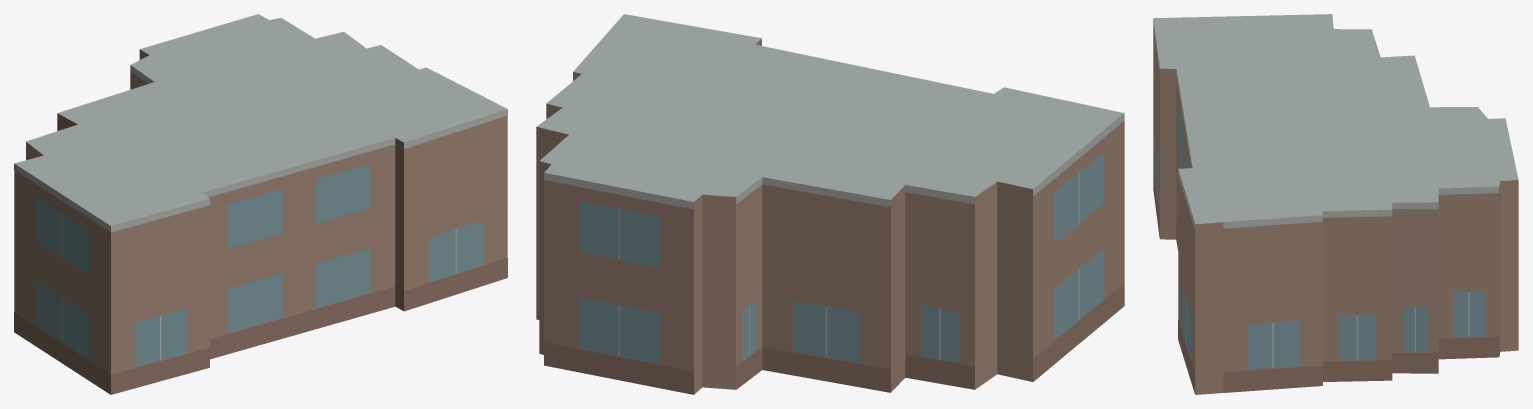
The model's file is survey-upis-32898949.glb.
3 views of the same model, side by side, from view 1: azimuth 30°, elevation 25°; view 2: azimuth 150°, elevation 25°; view 3: azimuth 270°, elevation 25° (orthographic). The views are drawn at different scales.
Parts seen in each view (by area): view 1: survey-upis-32898949.tmp; view 2: survey-upis-32898949.tmp; view 3: survey-upis-32898949.tmp.
Boxes of the visible parts, x1=… form: survey-upis-32898949.tmp: x1=14, y1=14, x2=507, y2=394; survey-upis-32898949.tmp: x1=536, y1=14, x2=1124, y2=394; survey-upis-32898949.tmp: x1=1153, y1=14, x2=1518, y2=394.
Bounding box in the file's own units: 16.91 × 6.4 × 12.42.
